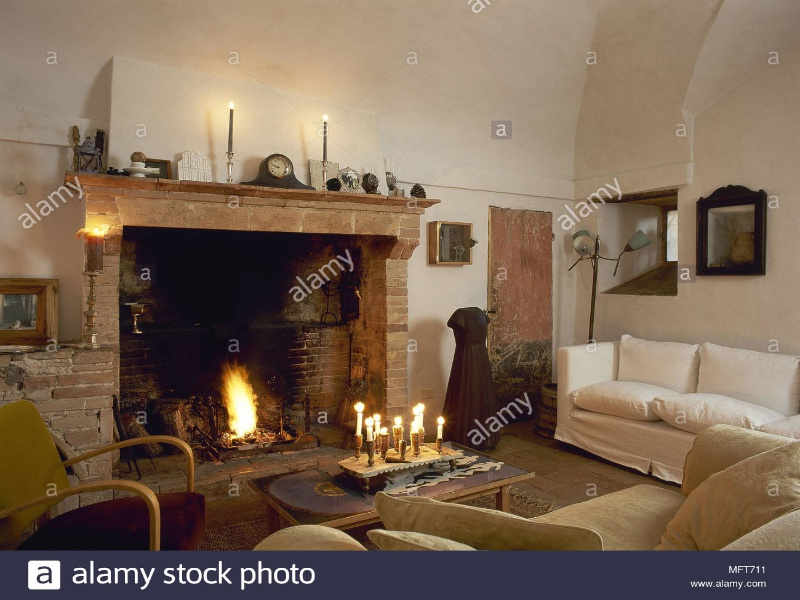fire: (213, 363, 269, 456), (392, 390, 435, 428), (361, 412, 388, 431), (348, 399, 369, 416), (435, 411, 451, 431)
